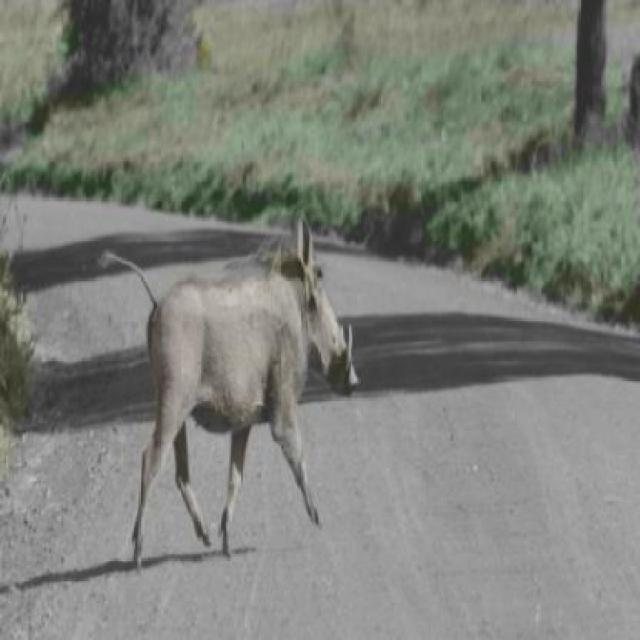pig: (95, 210, 357, 572)
